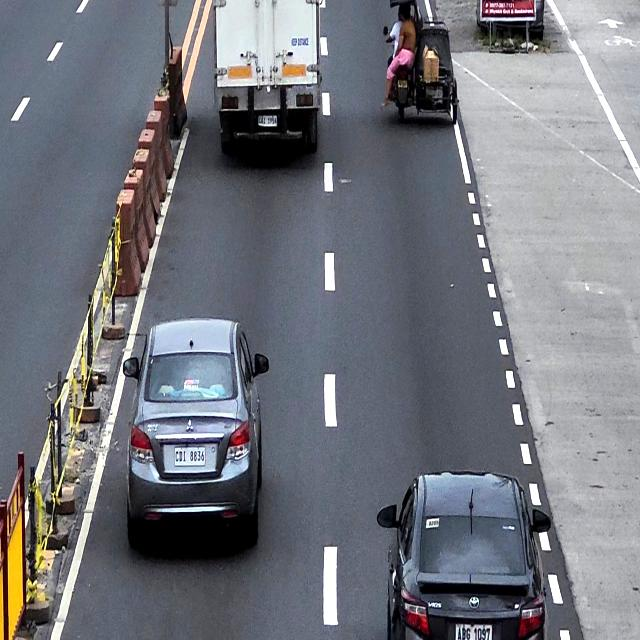Car: (122, 316, 268, 552), (378, 470, 550, 640)
License-Plate: (174, 448, 206, 467), (455, 624, 492, 640), (258, 115, 278, 127), (397, 80, 408, 89)
Tricycle: (384, 0, 458, 123)
Truck: (213, 0, 324, 162)
